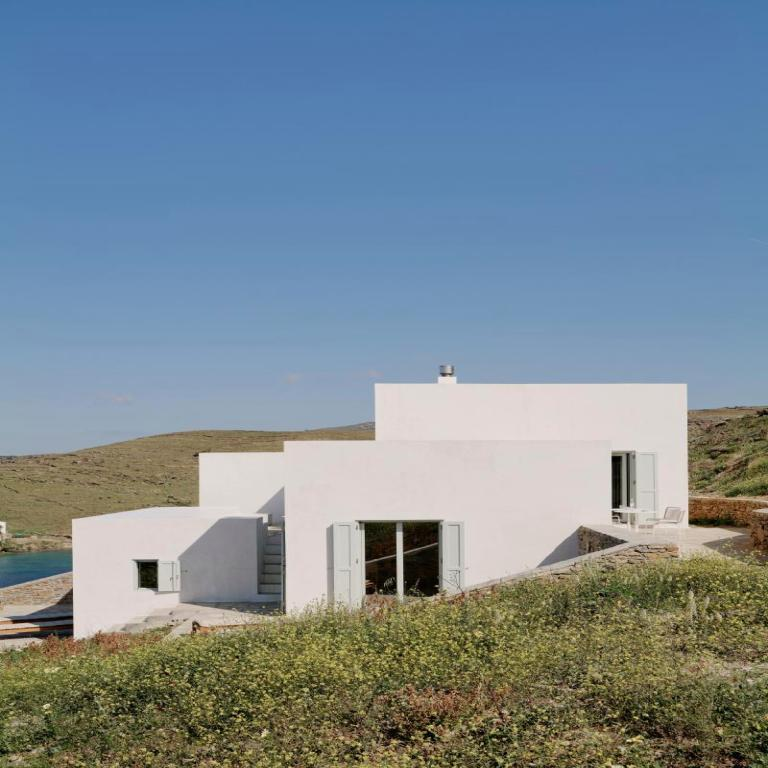white-walls: (291, 402, 582, 514)
